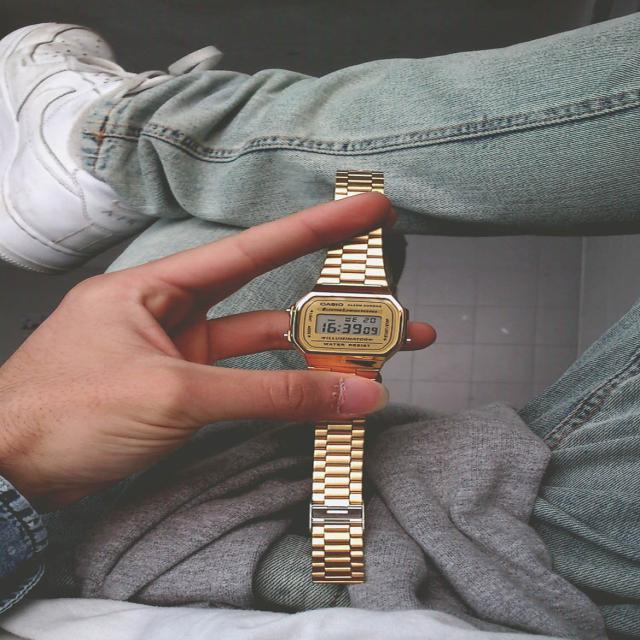watch: (290, 242, 402, 366)
